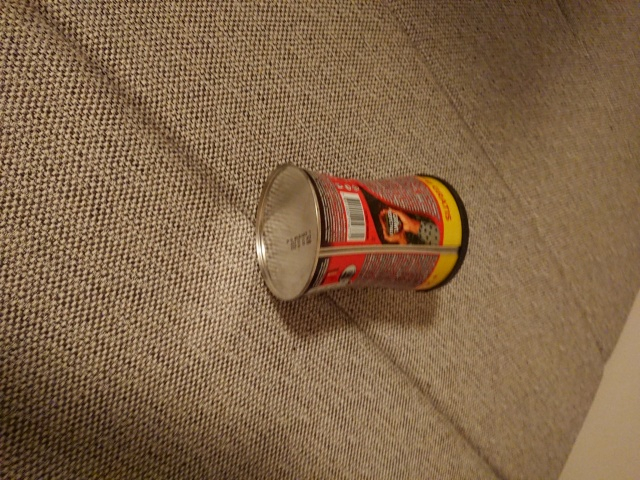Nescafe Classic 225g: (251, 158, 473, 307)
